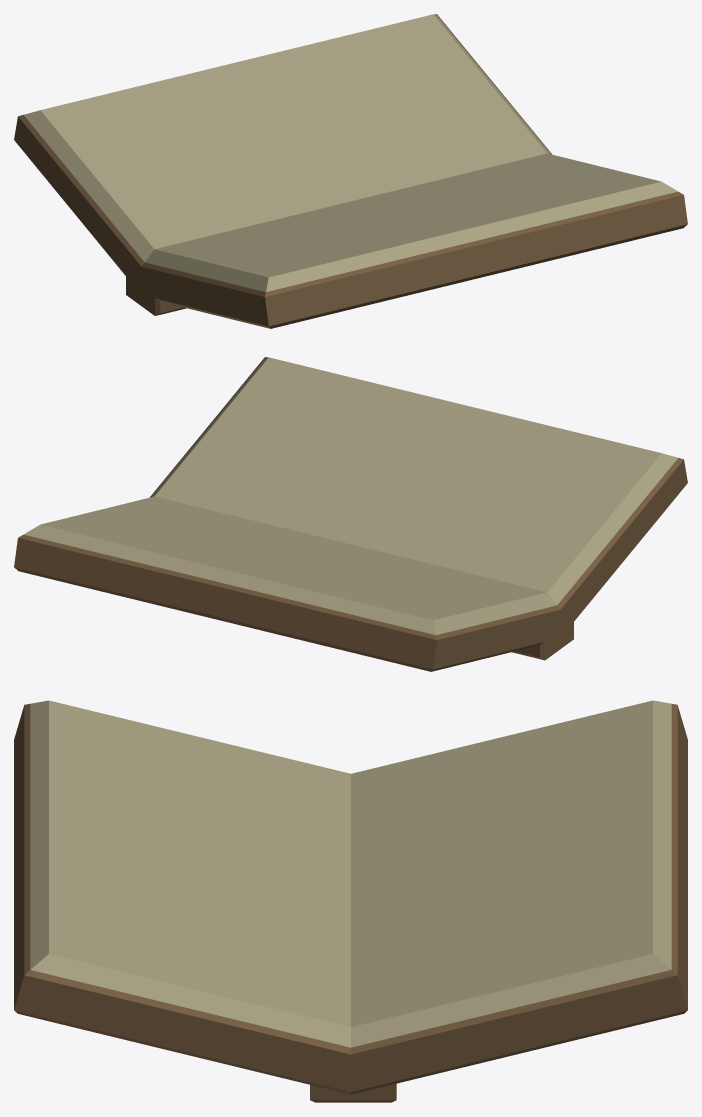
Rendered from book.fbx.
3 renders of one model, top to bottom at view 1: azimuth 30°, elevation 25°; view 2: azimuth 150°, elevation 25°; view 3: azimuth 270°, elevation 25°, orthographic. The views are drawn at different scales.
Parts seen in each view (by area): view 1: pCube3, pCube2, pCube1; view 2: pCube2, pCube3, pCube1; view 3: pCube3, pCube2, pCube1.
Part boxes in pixels (x1=…): pCube3: x1=14, y1=14, x2=551, y2=275; pCube2: x1=141, y1=153, x2=687, y2=328; pCube1: x1=126, y1=261, x2=186, y2=315; pCube2: x1=150, y1=357, x2=687, y2=621; pCube3: x1=14, y1=496, x2=560, y2=671; pCube1: x1=512, y1=605, x2=573, y2=660; pCube3: x1=340, y1=700, x2=687, y2=1093; pCube2: x1=14, y1=700, x2=355, y2=1093; pCube1: x1=310, y1=1083, x2=396, y2=1102.
Size of the model in its own units: 12.78 by 3.18 by 13.46.
